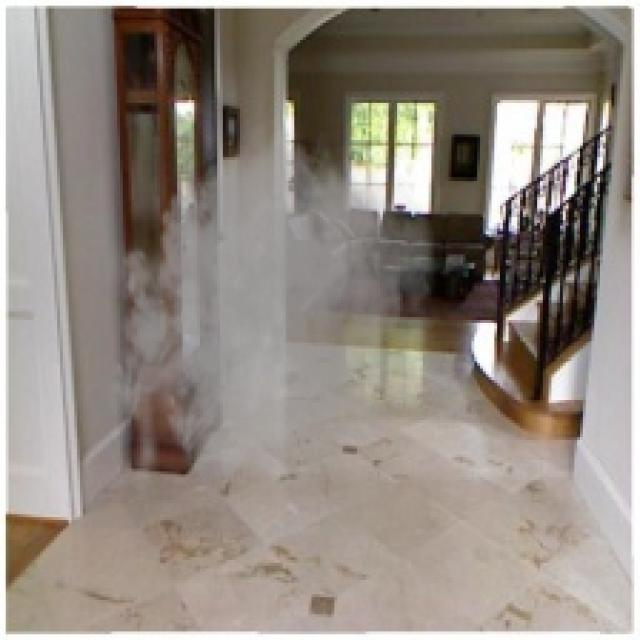smoke: (97, 117, 446, 512)
